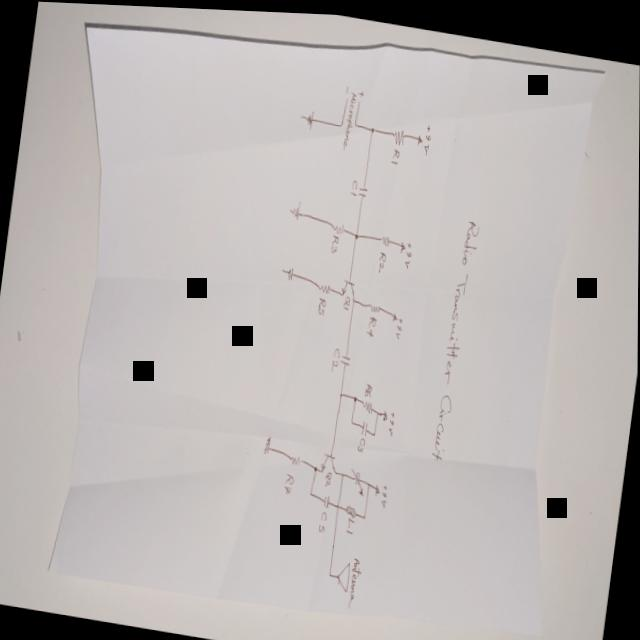capacitor: (348, 463, 366, 494), (356, 180, 368, 196), (359, 415, 369, 433), (338, 350, 351, 363), (322, 490, 331, 506)
ground: (297, 104, 314, 129), (287, 195, 301, 218), (279, 261, 294, 278), (262, 430, 272, 454)
inductor: (345, 500, 358, 515)
junction: (368, 122, 374, 131), (353, 228, 358, 237), (312, 461, 317, 469), (352, 391, 357, 399), (352, 118, 357, 125), (335, 500, 340, 506), (339, 388, 344, 394), (327, 568, 332, 574), (308, 487, 312, 494), (367, 477, 371, 484), (350, 415, 354, 421), (372, 427, 376, 433), (339, 118, 343, 123), (363, 510, 366, 516), (376, 406, 379, 412), (341, 468, 344, 473)
resistor: (389, 122, 405, 143), (316, 277, 332, 292), (330, 218, 345, 232), (361, 395, 374, 410), (289, 450, 302, 464), (378, 229, 390, 244), (368, 298, 381, 310)
source: (415, 129, 423, 144), (398, 236, 406, 250), (374, 479, 381, 494), (391, 306, 397, 319), (382, 405, 388, 418)
terminal: (356, 95, 361, 100), (344, 93, 348, 97)
text: (430, 212, 480, 460), (341, 86, 357, 149), (346, 552, 363, 607), (420, 118, 432, 152), (282, 467, 295, 493), (364, 311, 377, 335), (329, 343, 340, 370), (317, 506, 328, 531), (376, 246, 387, 271), (403, 237, 412, 266), (387, 405, 396, 432), (379, 479, 388, 506), (395, 312, 404, 336), (348, 174, 359, 193), (316, 292, 326, 312), (345, 513, 355, 532), (389, 143, 399, 162), (330, 230, 339, 251), (341, 290, 351, 308), (356, 432, 366, 449), (363, 378, 373, 394), (323, 467, 332, 484), (357, 85, 364, 95), (344, 81, 349, 91)
transistor: (319, 448, 340, 473), (339, 274, 357, 299)
